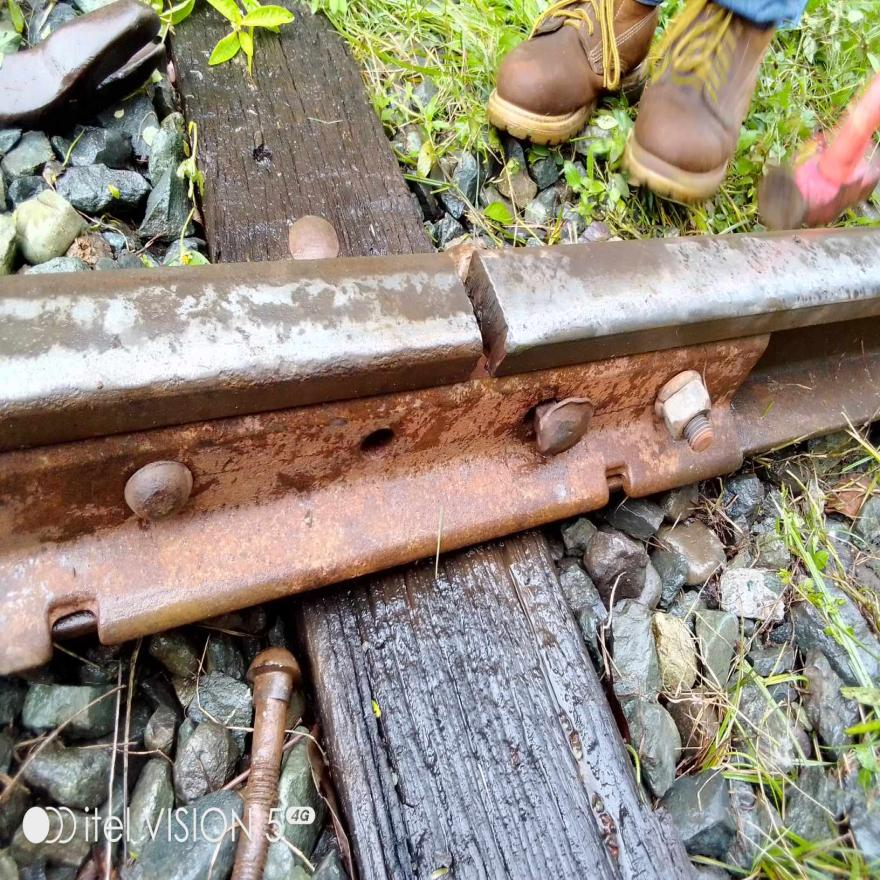railway-gap: (384, 187, 566, 412)
